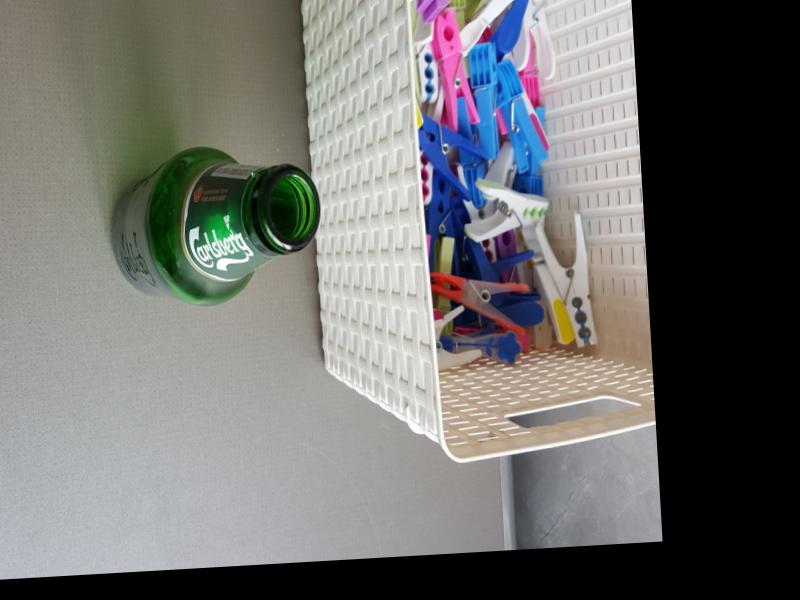Beer: (104, 140, 324, 312)
